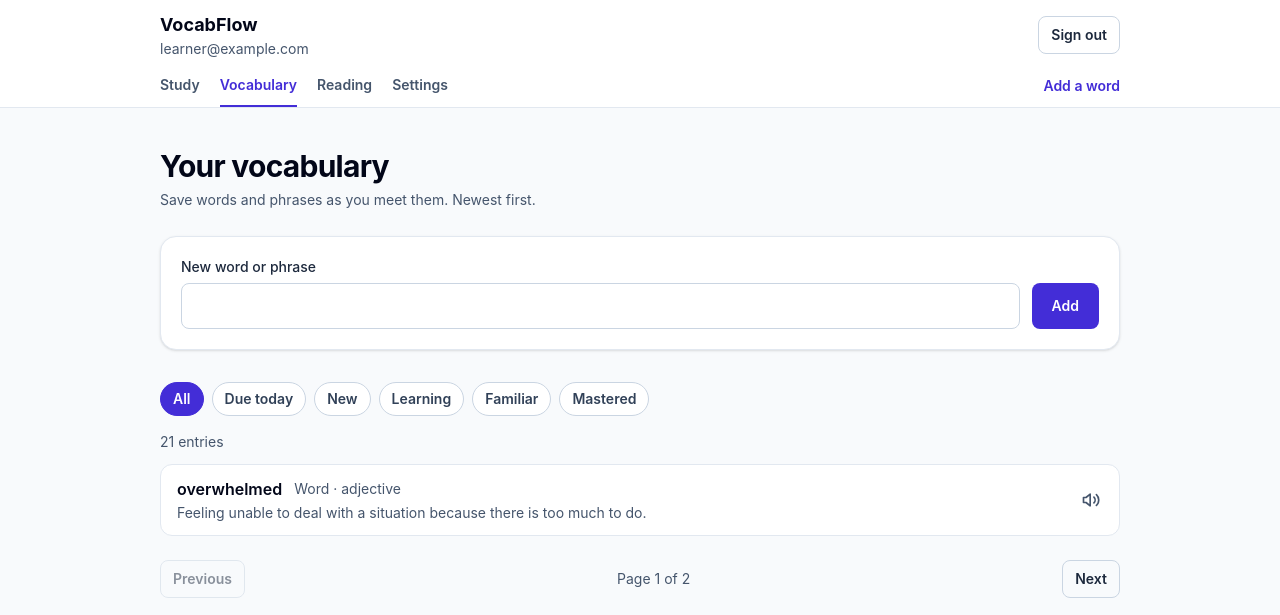
it: requests the next page from the server when paginating
Expected: the text "Page 1 of 2" is shown, [617,569,690,589]
Expected: the button "Previous" is disabled, [160,560,245,598]
What coordinates should you click on to do the following:
click the button "Next"
I would click on:
 (1091, 579)
Its box is [1062,560,1120,598].
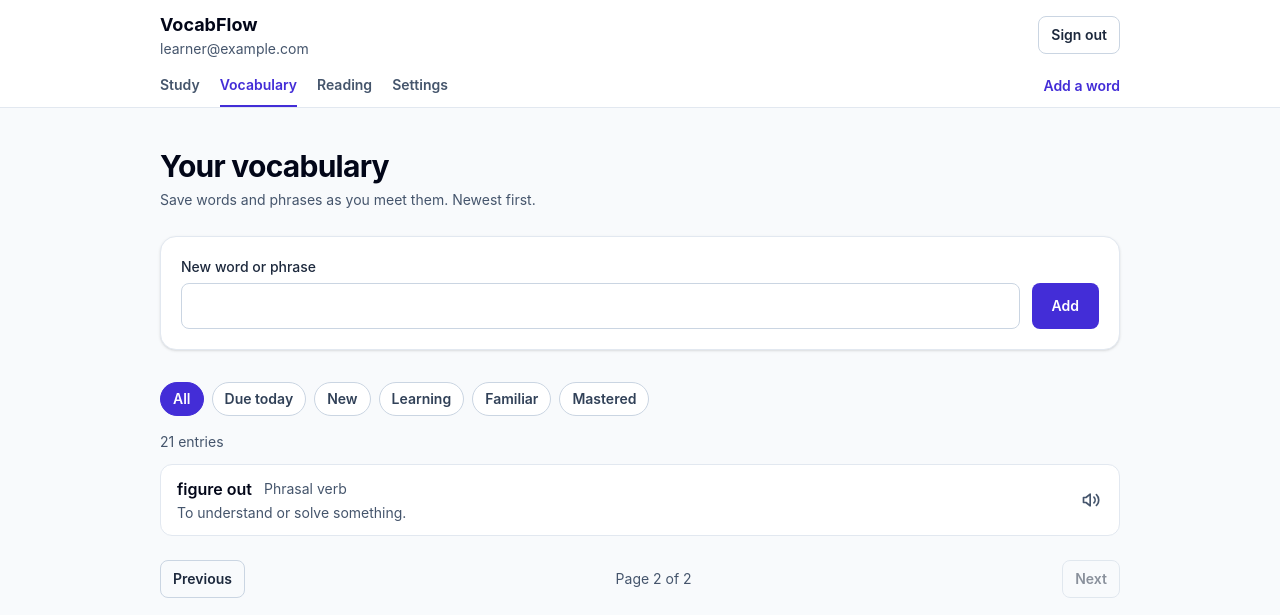
Result: the text "Page 2 of 2" is shown at [616,569,692,589]
Result: the text "figure out" is shown at [177,477,252,501]
Result: the button "Next" is disabled at [1062,560,1120,598]
